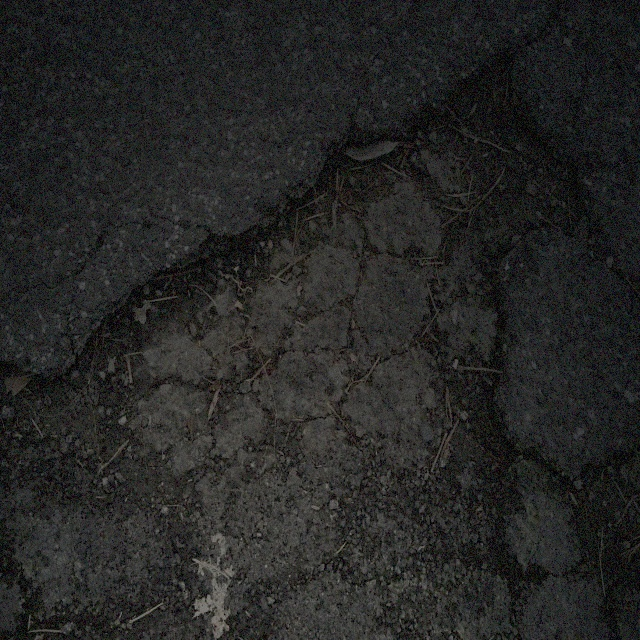pothole: (89, 43, 609, 554)
